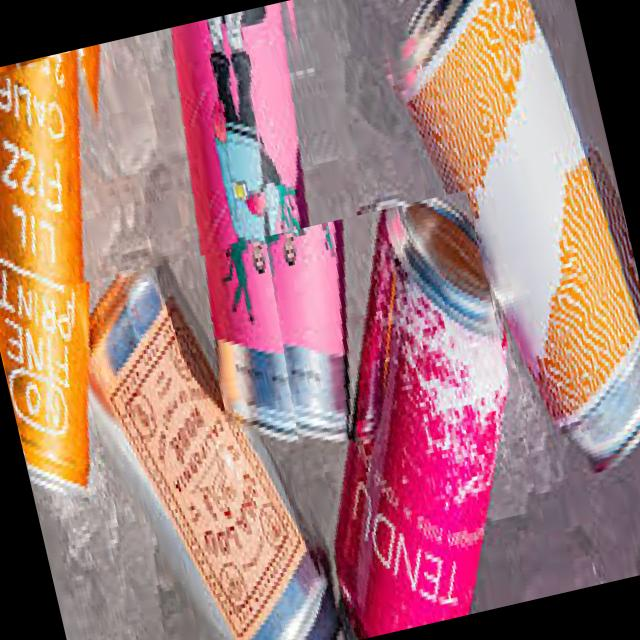Cans: (237, 189, 556, 640), (361, 0, 640, 505), (137, 0, 400, 477), (61, 243, 340, 640), (0, 42, 198, 511)
